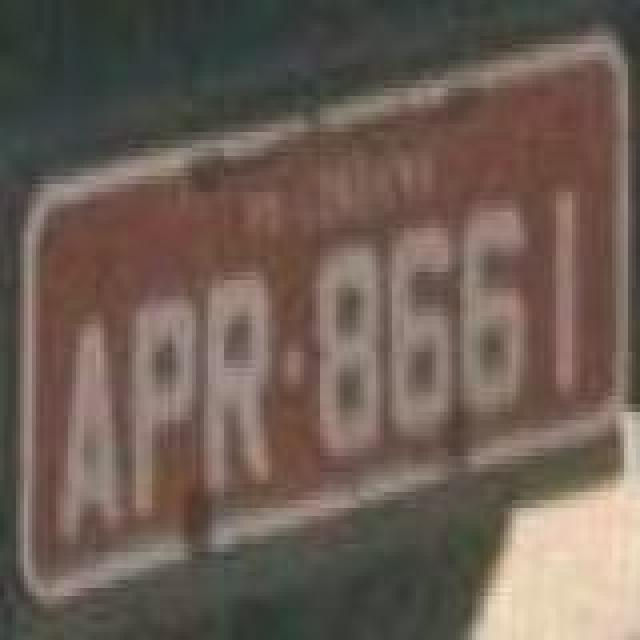1: (550, 186, 578, 390)
6: (388, 218, 460, 438), (460, 206, 532, 418)
8: (312, 238, 384, 466)
A: (54, 318, 122, 546)
P: (124, 294, 196, 522)
R: (200, 262, 272, 490)
